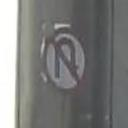NoVirarU: (44, 30, 86, 92)
